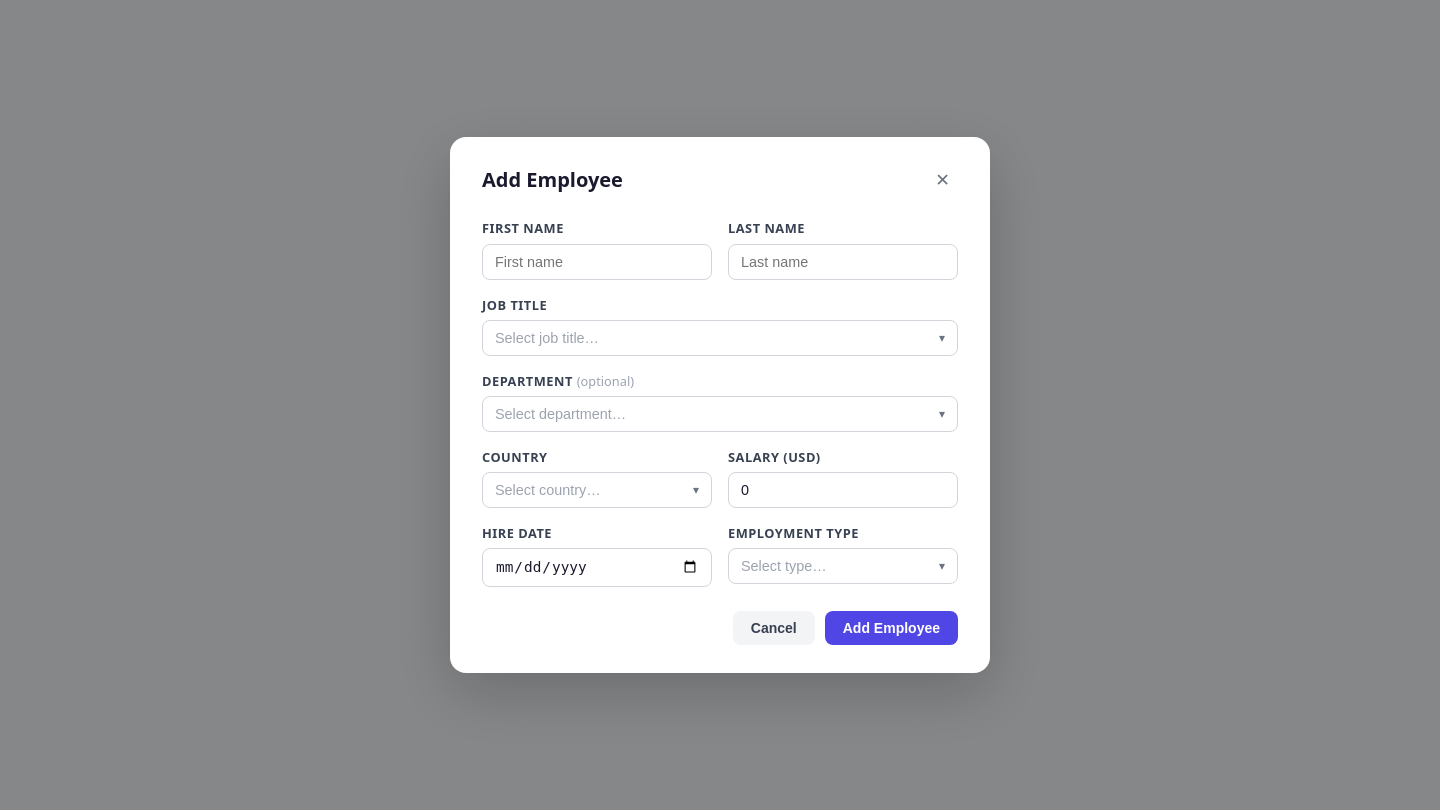
Test: AddEmployeeModal › validation › clears a text field error when the value changes
Step 1. Click the button "Add Employee" → (891,628), box [825,611,958,645]
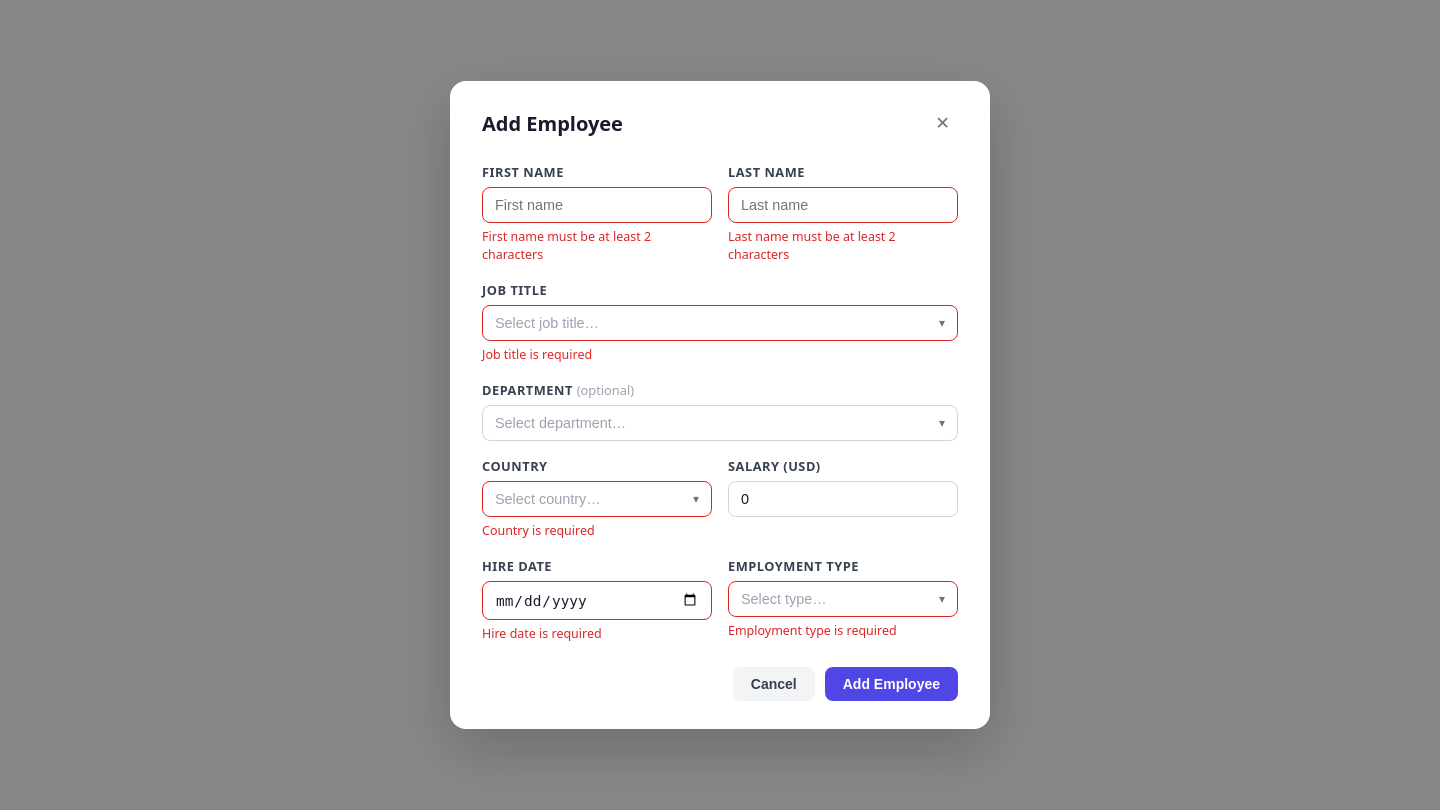
Expected: the text "First name must be at least 2 characters" is shown, [482,228,651,263]
Step 2. Type "Jane" into the field labelled "First Name" → (597,205), box [482,187,712,223]
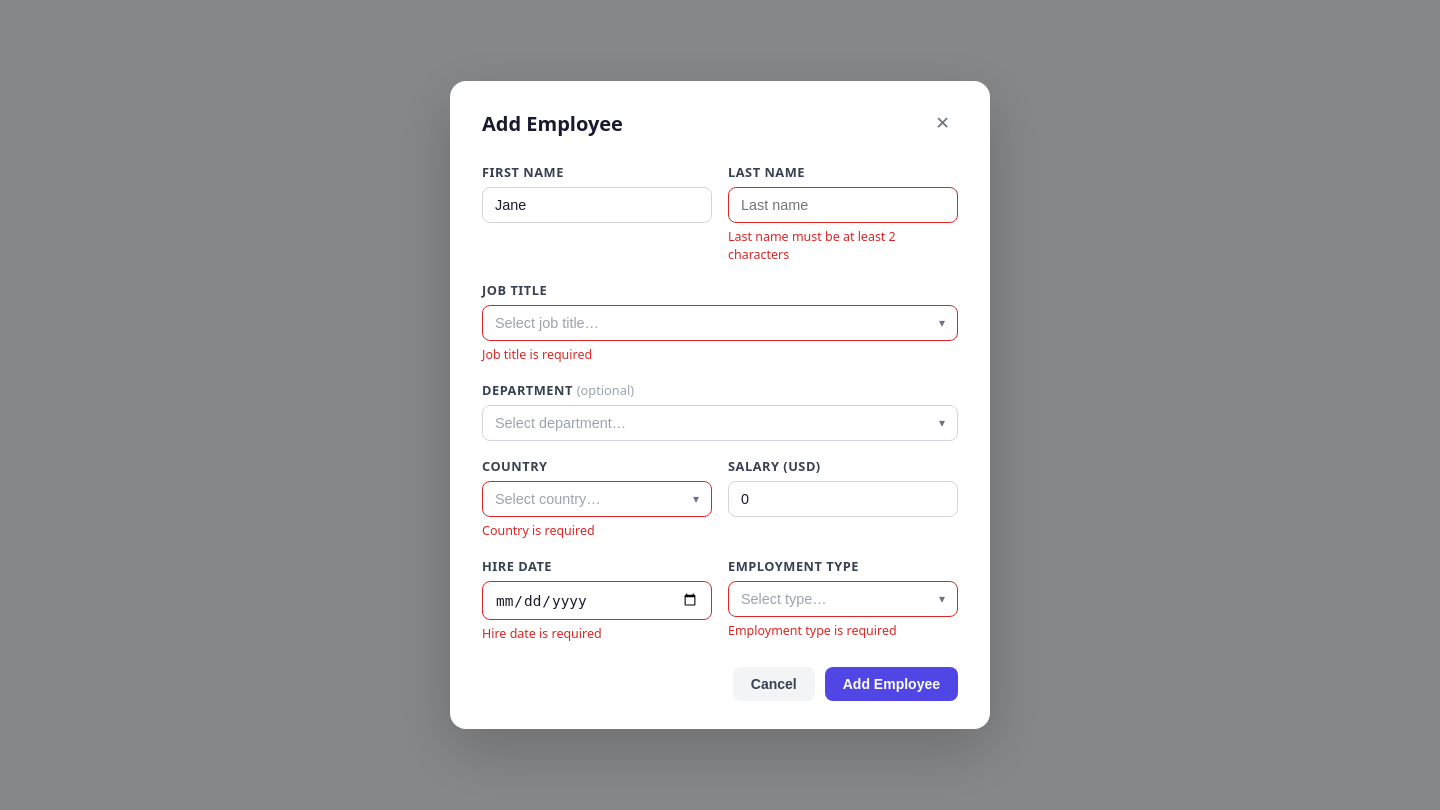
Expected: the text "First name must be at least 2 characters" is gone
